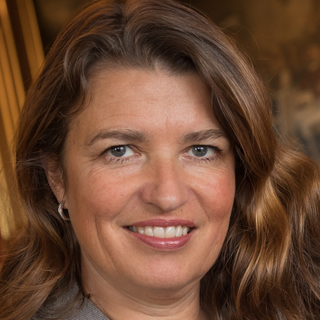eye: (97, 138, 148, 166), (179, 143, 226, 167)
